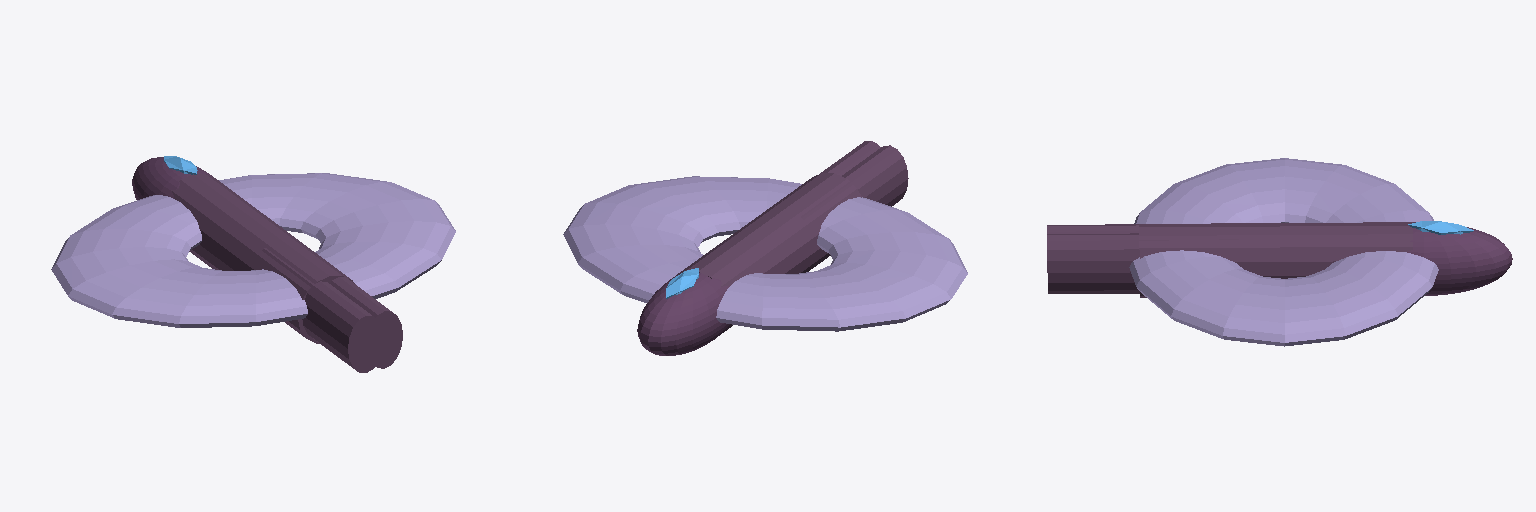
Rendered from newscene.obj.
The picture shows the model from 3 angles: view 1: azimuth 30°, elevation 25°; view 2: azimuth 150°, elevation 25°; view 3: azimuth 270°, elevation 25°; orthographic projection.
Parts seen in each view (by area): view 1: torus8; view 2: torus8; view 3: torus8.
Part boxes in pixels (bbox=[...]): torus8: bbox=[51, 156, 455, 372]; torus8: bbox=[563, 141, 967, 355]; torus8: bbox=[1047, 158, 1512, 346].
Size of the model in its own units: 108 by 20.68 by 118.